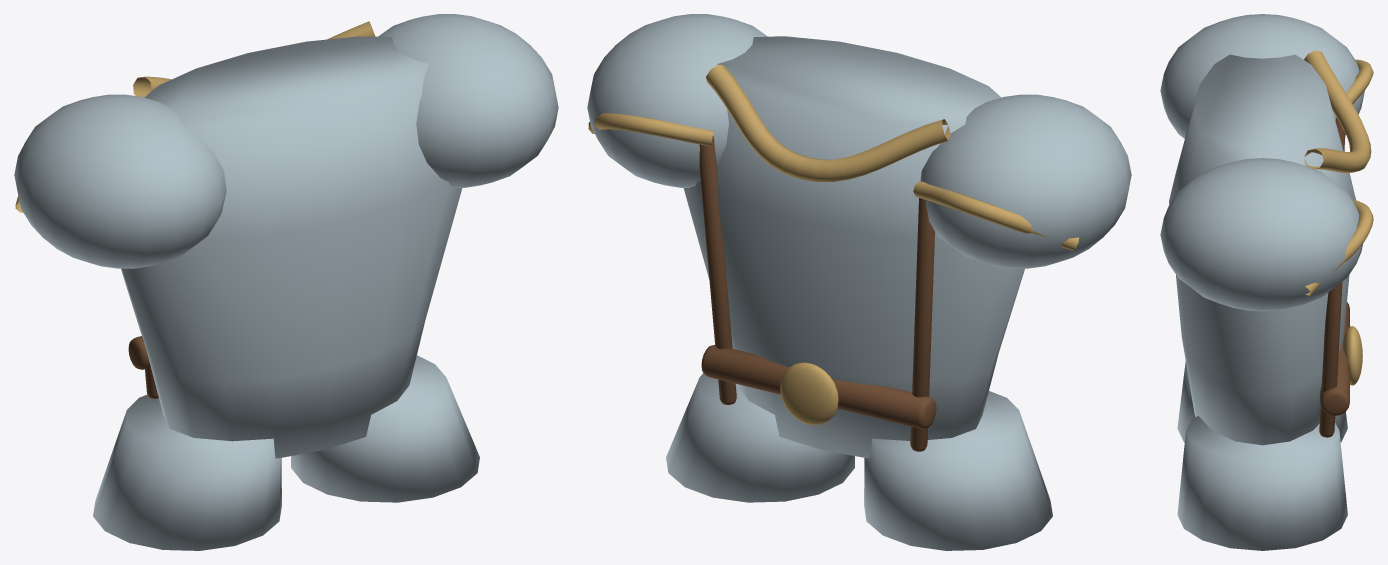
File: steel_cuirass.glb
The picture shows the model from 3 angles, left to right: view 1: azimuth 30°, elevation 25°; view 2: azimuth 150°, elevation 25°; view 3: azimuth 270°, elevation 25°; orthographic projection. The views are drawn at different scales.
Visible parts, largest first — view 1: Shaped breastplate, Layered pauldron, Layered pauldron.001, Laminated hip guard, Laminated hip guard.001, Neckline; view 2: Shaped breastplate, Layered pauldron, Laminated hip guard, Layered pauldron.001, Laminated hip guard.001, Neckline, Waist belt, Leather fastening.001, Leather fastening, Sunburst clasp, Pauldron trim, Pauldron trim.001; view 3: Shaped breastplate, Layered pauldron.001, Laminated hip guard.001, Layered pauldron, Neckline, Leather fastening.001, Waist belt, Laminated hip guard, Pauldron trim.001, Sunburst clasp, Pauldron trim.
Part boxes in pixels (x1,y1,x2,y2): Shaped breastplate: (121,36,462,458); Layered pauldron: (14,94,226,268); Layered pauldron.001: (378,14,558,187); Laminated hip guard: (93,394,281,550); Laminated hip guard.001: (291,355,479,502); Neckline: (133,21,375,97); Shaped breastplate: (683,36,1024,458); Layered pauldron: (920,94,1131,268); Laminated hip guard: (864,391,1052,550); Layered pauldron.001: (587,14,767,187); Laminated hip guard.001: (666,373,854,502); Neckline: (706,64,950,181); Waist belt: (701,345,936,429); Leather fastening.001: (699,136,736,404); Leather fastening: (910,198,934,451); Sunburst clasp: (780,362,838,425); Pauldron trim: (913,181,1078,250); Pauldron trim.001: (588,113,714,146); Shaped breastplate: (1169,54,1355,445); Layered pauldron.001: (1160,158,1362,311); Laminated hip guard.001: (1177,416,1347,550); Layered pauldron: (1160,14,1364,138); Neckline: (1304,50,1371,173); Leather fastening.001: (1319,282,1342,437); Waist belt: (1320,302,1349,415); Laminated hip guard: (1177,361,1347,442); Pauldron trim.001: (1305,199,1373,295); Sunburst clasp: (1342,326,1362,385); Pauldron trim: (1346,59,1373,104).
Bounding box in the file's own units: 1.24 × 0.97 × 0.5002.
